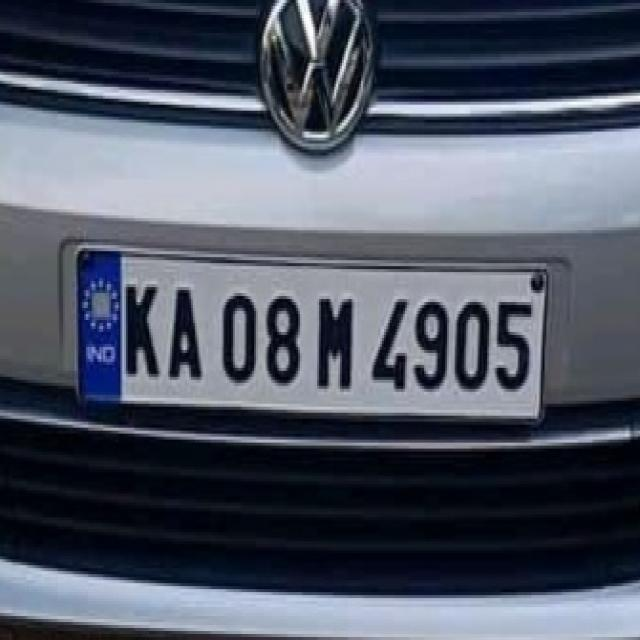0: (220, 280, 260, 394), (454, 290, 491, 402)
4: (371, 285, 412, 402)
5: (494, 289, 536, 404)
8: (258, 276, 308, 394)
9: (410, 290, 450, 394)
A: (162, 282, 206, 391)
K: (122, 275, 159, 387)
M: (311, 278, 360, 405)
